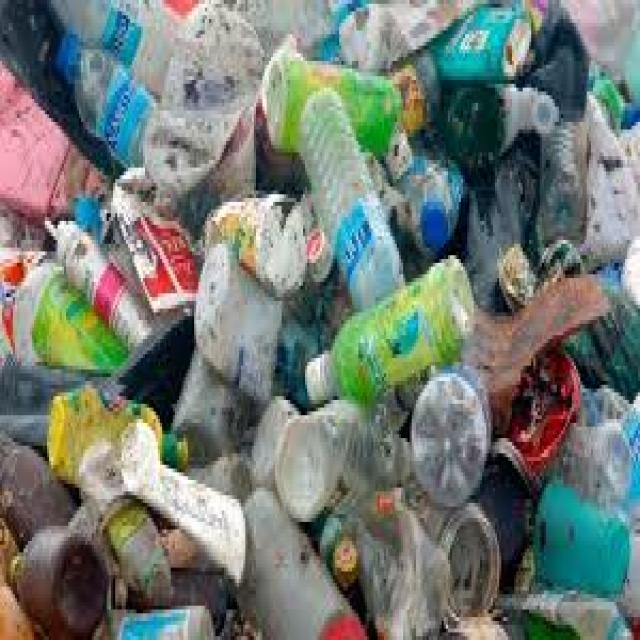plastic_bottle: (263, 41, 432, 376)
